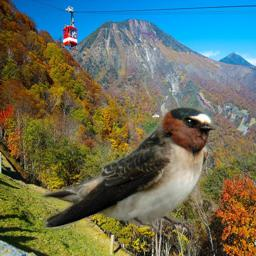Swallow: (39, 101, 222, 236)
